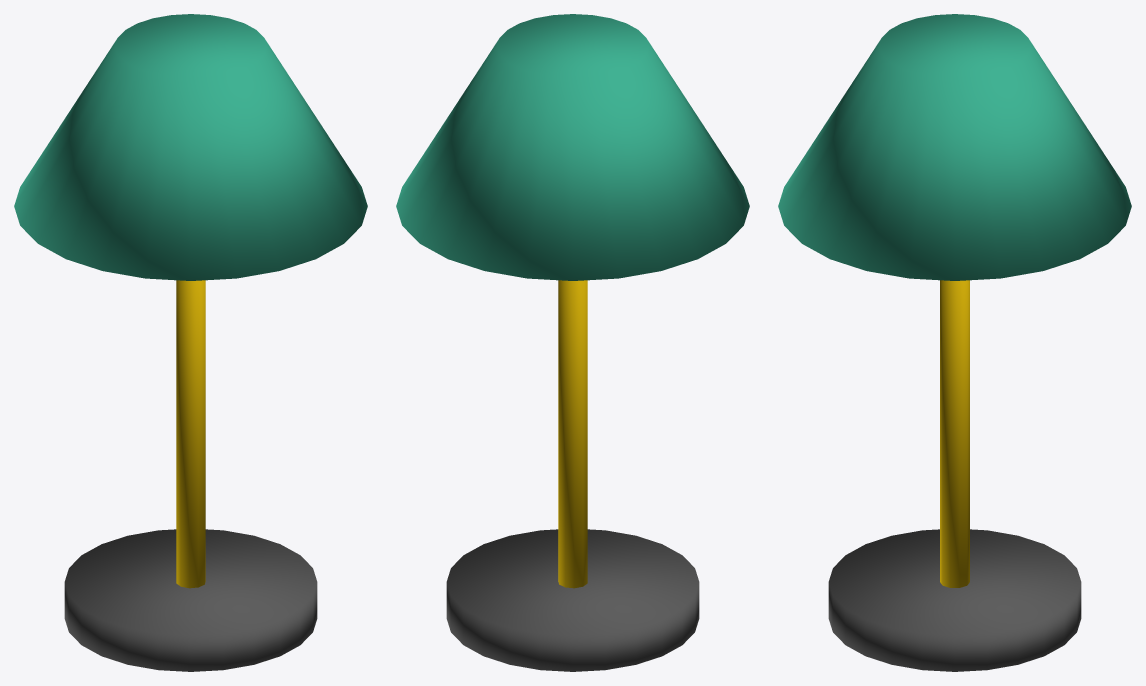
File: desk_lamp.glb
3 renders of one model, left to right at view 1: azimuth 30°, elevation 25°; view 2: azimuth 150°, elevation 25°; view 3: azimuth 270°, elevation 25°, orthographic.
Visible parts, largest first — view 1: Cone, Cylinder, Cylinder.001; view 2: Cone, Cylinder, Cylinder.001; view 3: Cone, Cylinder, Cylinder.001.
Part boxes in pixels (<box>): Cone: <box>14,14,367,280</box>; Cylinder: <box>64,529,317,671</box>; Cylinder.001: <box>176,280,205,588</box>; Cone: <box>396,14,749,280</box>; Cylinder: <box>446,529,699,671</box>; Cylinder.001: <box>558,280,587,588</box>; Cone: <box>778,14,1131,280</box>; Cylinder: <box>828,529,1081,671</box>; Cylinder.001: <box>940,280,969,587</box>.
Size of the model in its own units: 0.14 by 0.25 by 0.14.
